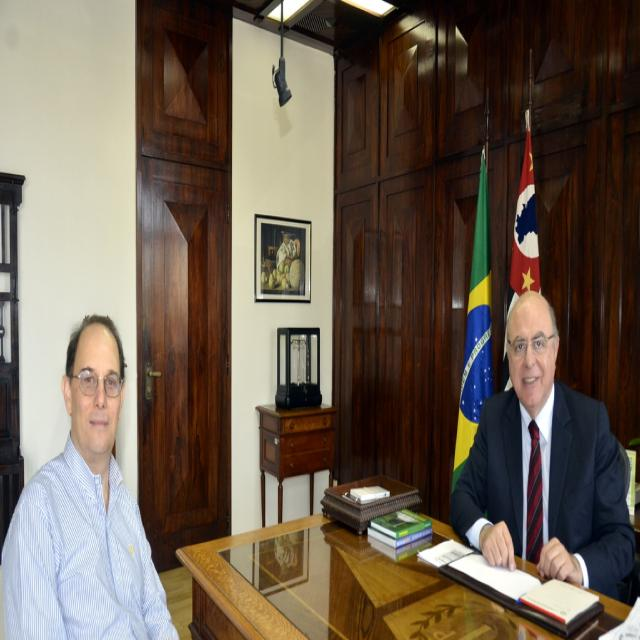desk: (177, 495, 639, 639)
person: (1, 312, 182, 636), (450, 289, 636, 600)
